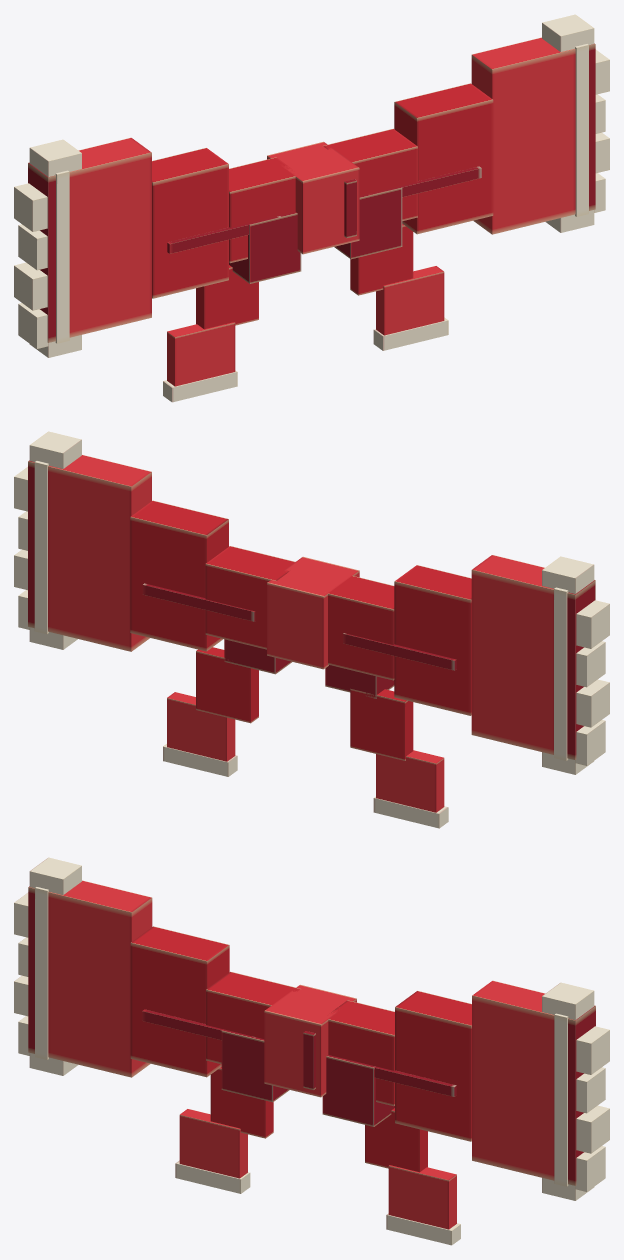
The model's file is reimu_ribbon.obj.
3 renders of one model, top to bottom at view 1: azimuth 30°, elevation 25°; view 2: azimuth 150°, elevation 25°; view 3: azimuth 330°, elevation 25°, orthographic.
Parts seen in each view (by area): view 1: reimu_ribbon; view 2: reimu_ribbon; view 3: reimu_ribbon.
Boxes of the visible parts, x1=… form: reimu_ribbon: x1=14, y1=14, x2=609, y2=402; reimu_ribbon: x1=14, y1=431, x2=609, y2=828; reimu_ribbon: x1=14, y1=857, x2=609, y2=1245.
Bounding box in the file's own units: 16.28 × 7.6 × 1.87.
Materials: 1 (1 with a texture image).
